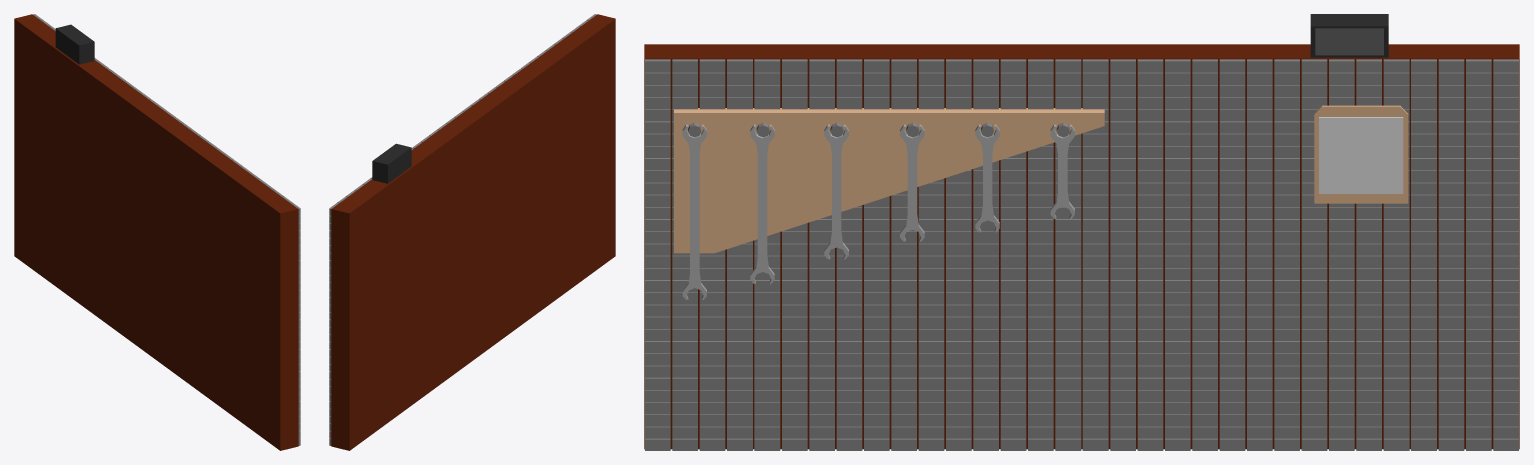
The model's file is ferramentas.fbx.
3 views of the same model, side by side, from view 1: azimuth 30°, elevation 25°; view 2: azimuth 150°, elevation 25°; view 3: azimuth 270°, elevation 25° (orthographic). The views are drawn at different scales.
Visible parts, largest first — view 1: Cube, Cube.002; view 2: Cube, Cube.002; view 3: Cube, Cube.002, Cube.001.
Part boxes in pixels (<box>): Cube: <box>14,14,300,450</box>; Cube.002: <box>55,24,94,64</box>; Cube: <box>329,14,615,450</box>; Cube.002: <box>372,143,411,183</box>; Cube: <box>644,44,1519,450</box>; Cube.002: <box>1310,14,1408,203</box>; Cube.001: <box>682,124,1074,299</box>.
Size of the model in its own units: 24.68 by 216 by 406.
